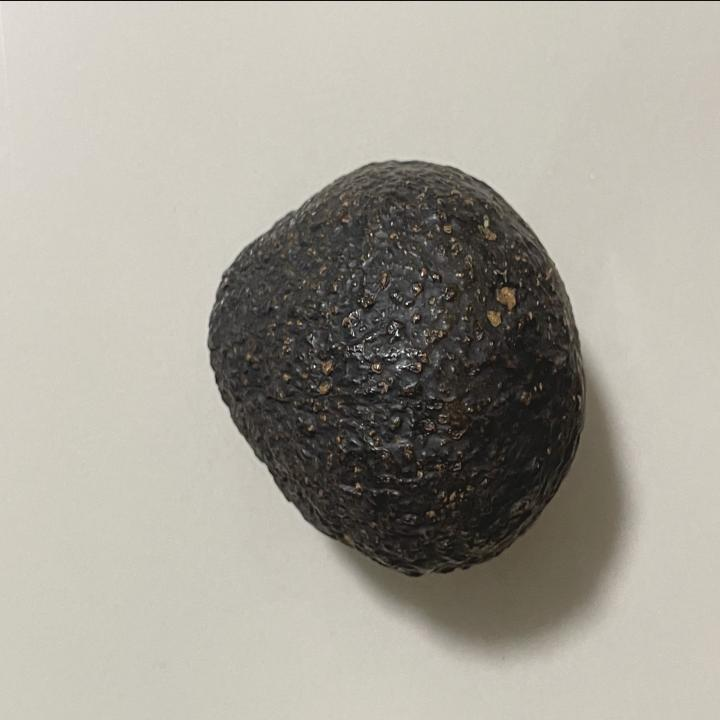Level3: (197, 147, 594, 586)
